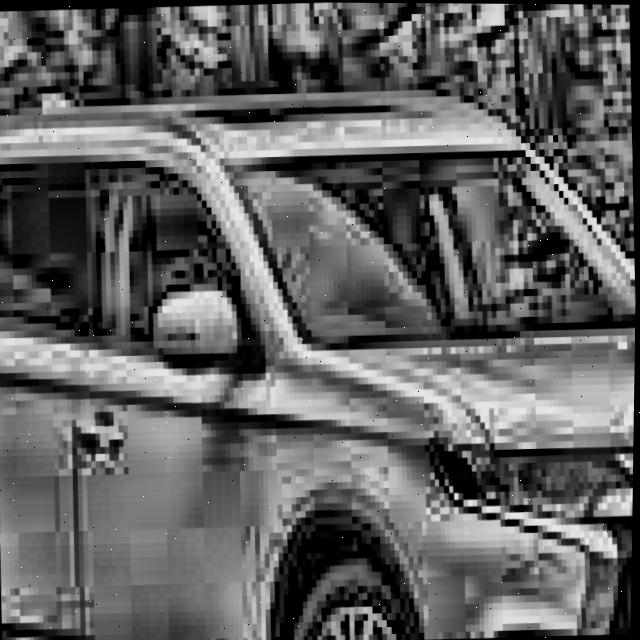light_vehicle: (0, 72, 639, 640)
